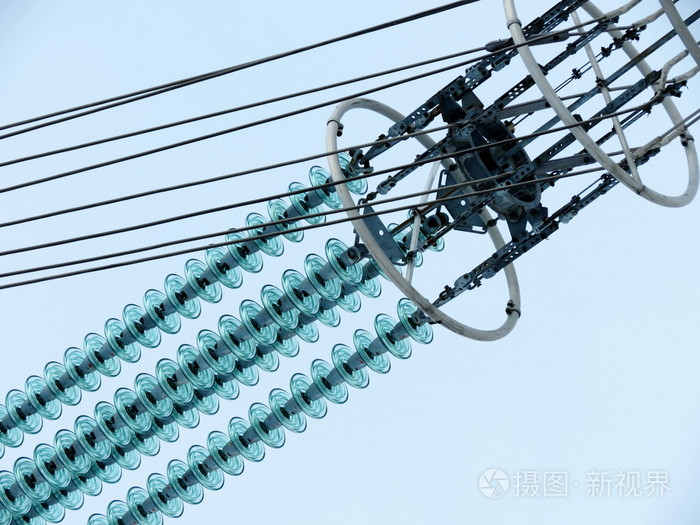insulator: (1, 159, 364, 453), (4, 247, 367, 525), (110, 298, 428, 525)
